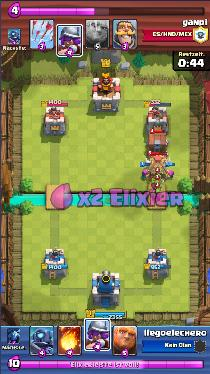ally_archer: (166, 168, 174, 178), (140, 170, 148, 179)
ally_goblin_cage: (146, 130, 169, 155)
enemy_goblin_hut: (143, 155, 171, 179)
enemy_spear_goblin: (150, 190, 162, 201), (153, 174, 164, 184), (151, 182, 163, 191)
